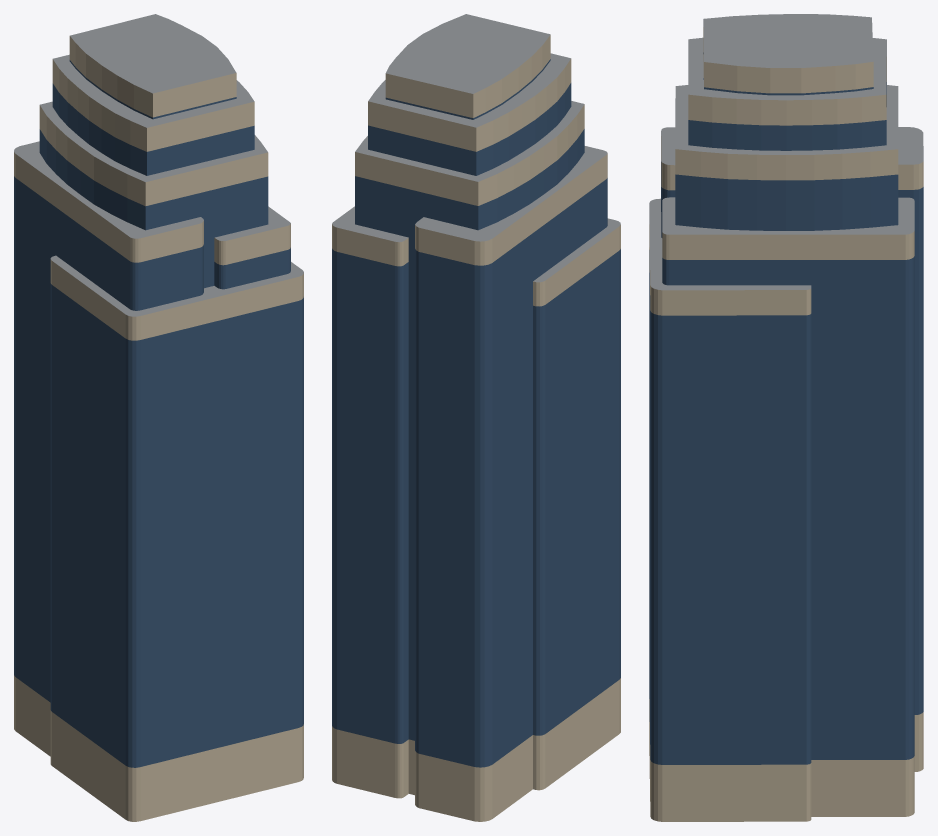
Rendered from 99_west.glb.
3 views of the same model, side by side, from view 1: azimuth 30°, elevation 25°; view 2: azimuth 150°, elevation 25°; view 3: azimuth 270°, elevation 25° (orthographic). The views are drawn at different scales.
Visible parts, largest first — view 1: 99_West; view 2: 99_West; view 3: 99_West.
Boxes of the visible parts, <box> form: 99_West: <box>14,14,303,821</box>; 99_West: <box>332,14,620,821</box>; 99_West: <box>649,14,923,821</box>.
Size of the model in its own units: 31.05 by 116 by 39.32.
